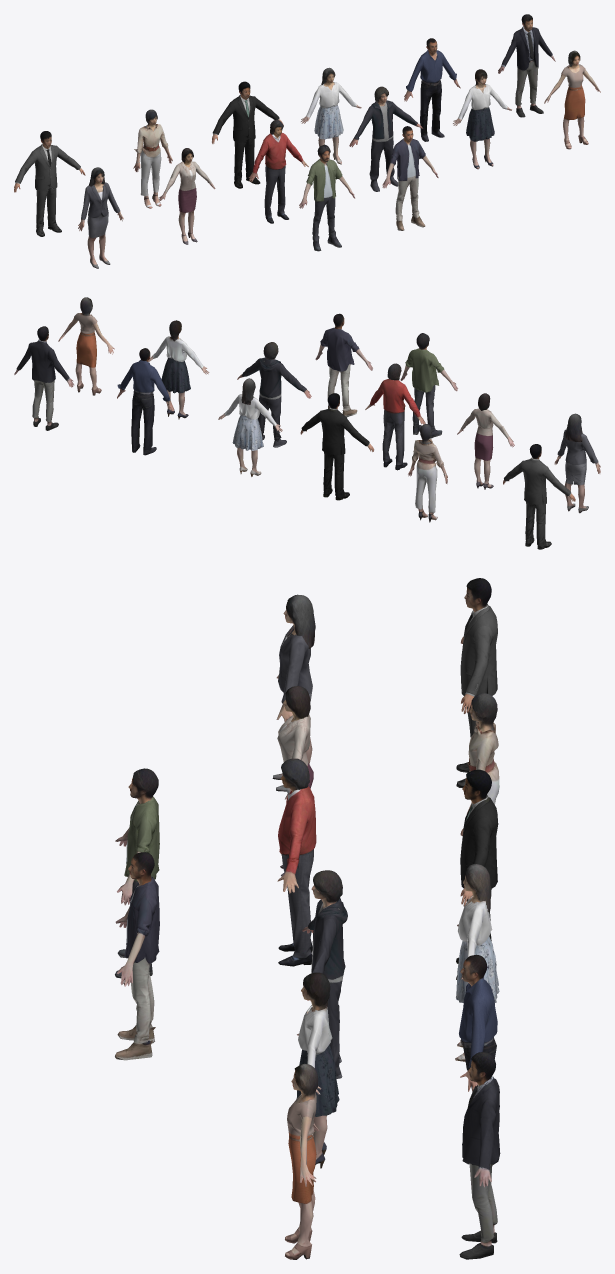
The model's file is citizens.glb.
3 renders of one model, top to bottom at view 1: azimuth 30°, elevation 25°; view 2: azimuth 150°, elevation 25°; view 3: azimuth 270°, elevation 25°, orthographic. The views are drawn at different scales.
Visible parts, largest first — view 1: Citizen 00amza_004, Citizen 00amza_001, Citizen 00amza_003, Citizen 00amza_011, Citizen 00amza_010, Citizen 00amza_006, Citizen 00amza_012, Citizen 00amza_008, Citizen 00amza_002, Citizen 00amza_005, Citizen 00amza_007, Citizen 00amza_014 (+2 smaller); view 2: Citizen 00amza_004, Citizen 00amza_011, Citizen 00amza_001, Citizen 00amza_006, Citizen 00amza_008, Citizen 00amza_003, Citizen 00amza_007, Citizen 00amza_010, Citizen 00amza_012, Citizen 00amza_005, Citizen 00amza_002, Citizen 00amza_014 (+2 smaller); view 3: Citizen 00amza_012, Citizen 00amza_006, Citizen 00amza_008, Citizen 00amza_009, Citizen 00amza_003, Citizen 00amza_002, Citizen 00amza_001, Citizen 00amza_007, Citizen 00amza_004, Citizen 00amza_011, Citizen 00amza_010, Citizen 00amza_005 (+2 smaller).
Part boxes in pixels (box(x1,y1,x2,y2)): Citizen 00amza_004: box(212, 81, 283, 188); Citizen 00amza_001: box(14, 131, 85, 236); Citizen 00amza_003: box(349, 86, 423, 191); Citizen 00amza_011: box(404, 38, 460, 141); Citizen 00amza_010: box(299, 144, 355, 251); Citizen 00amza_006: box(249, 119, 308, 223); Citizen 00amza_012: box(382, 126, 438, 230); Citizen 00amza_008: box(498, 14, 555, 117); Citizen 00amza_002: box(453, 69, 511, 169); Citizen 00amza_005: box(78, 167, 123, 268); Citizen 00amza_007: box(301, 67, 361, 164); Citizen 00amza_014: box(133, 109, 172, 208); Citizen 00amza_004: box(300, 393, 374, 500); Citizen 00amza_011: box(117, 348, 174, 455); Citizen 00amza_001: box(503, 444, 575, 549); Citizen 00amza_006: box(365, 363, 425, 470); Citizen 00amza_008: box(14, 326, 74, 430); Citizen 00amza_003: box(237, 342, 311, 447); Citizen 00amza_007: box(218, 378, 282, 476); Citizen 00amza_010: box(400, 333, 457, 438); Citizen 00amza_012: box(315, 313, 372, 417); Citizen 00amza_005: box(554, 413, 600, 513); Citizen 00amza_002: box(148, 320, 209, 419); Citizen 00amza_014: box(408, 424, 447, 522); Citizen 00amza_012: box(115, 852, 159, 1060); Citizen 00amza_006: box(277, 758, 316, 966); Citizen 00amza_008: box(459, 1052, 500, 1259); Citizen 00amza_009: box(285, 1063, 318, 1259); Citizen 00amza_003: box(302, 870, 347, 1078); Citizen 00amza_002: box(296, 972, 339, 1168); Citizen 00amza_001: box(456, 578, 497, 787); Citizen 00amza_007: box(455, 864, 499, 1061); Citizen 00amza_004: box(456, 769, 498, 979); Citizen 00amza_011: box(459, 954, 497, 1164); Citizen 00amza_010: box(115, 768, 159, 978); Citizen 00amza_005: box(272, 594, 315, 791).
Size of the model in its own units: 10.94 by 1.94 by 3.34.
28 materials, 28 textured.
